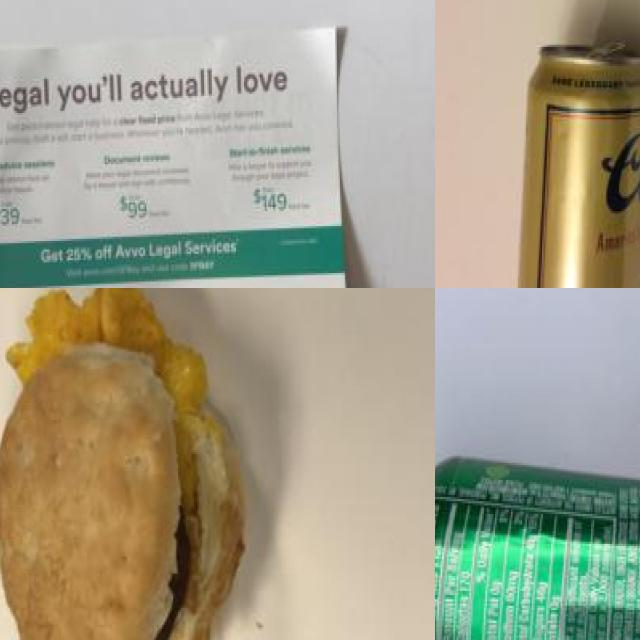compost: (0, 288, 263, 640)
paper: (0, 31, 361, 288)
plastic: (435, 458, 640, 640), (513, 16, 640, 288)
